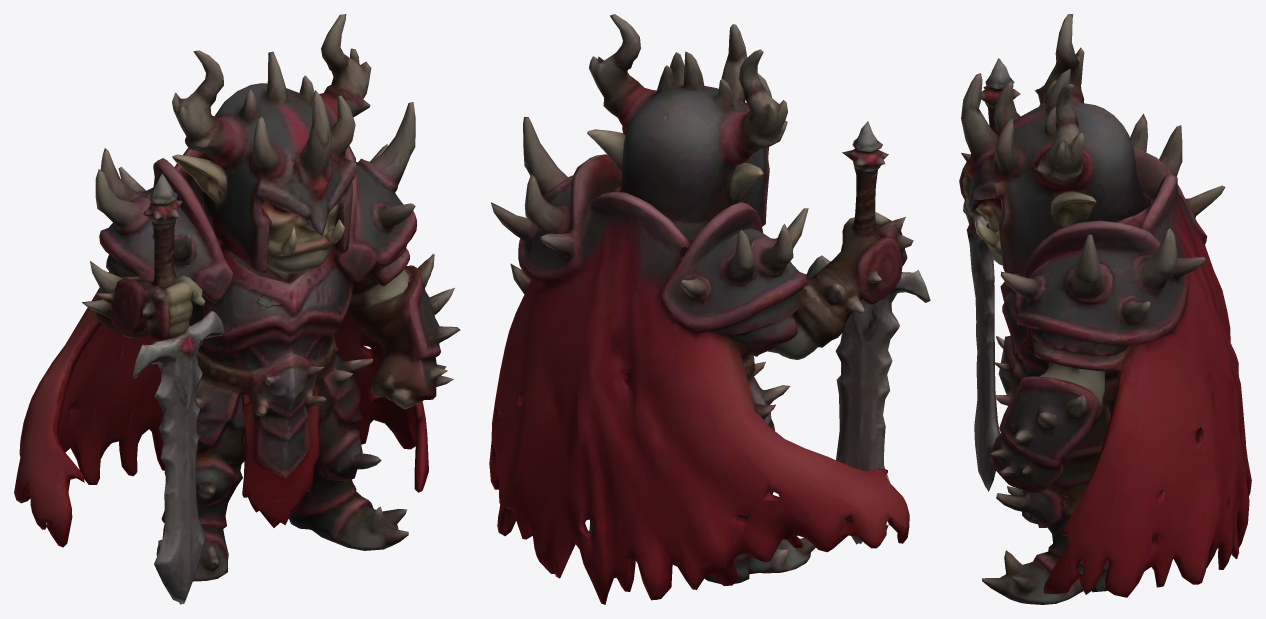
The model's file is model-boss-general.glb.
3 views of the same model, side by side, from view 1: azimuth 30°, elevation 25°; view 2: azimuth 150°, elevation 25°; view 3: azimuth 270°, elevation 25° (orthographic).
Visible parts, largest first — view 1: geometry_0; view 2: geometry_0; view 3: geometry_0.
Part boxes in pixels (box(x1,y1,x2,y2)): geometry_0: box(14, 14, 460, 604); geometry_0: box(489, 14, 930, 604); geometry_0: box(959, 14, 1251, 604).
Size of the model in its own units: 0.8064 by 0.9941 by 0.5211.
Materials: 1 (1 with a texture image).
